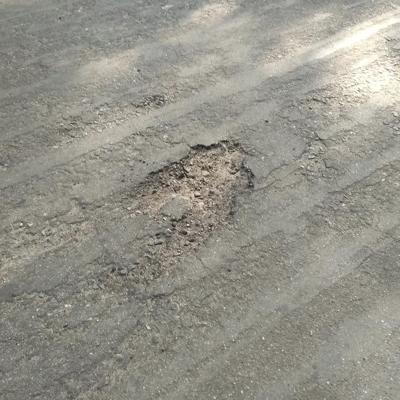pothole: (124, 137, 259, 272)
